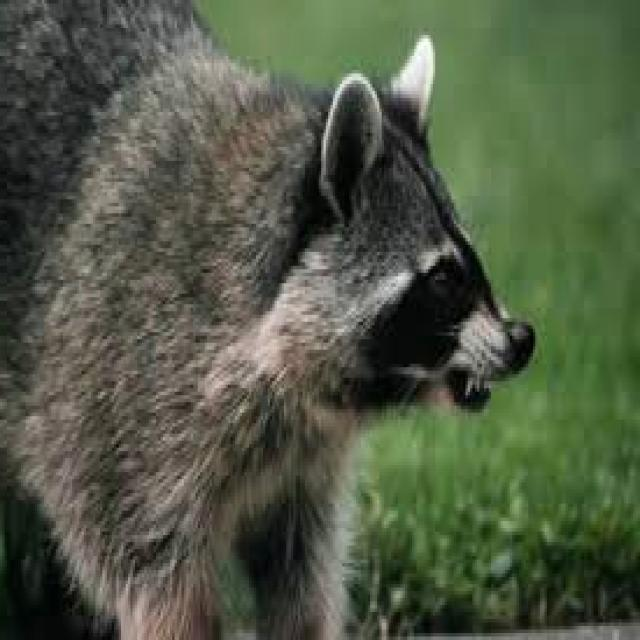raccoon: (2, 0, 533, 637)
